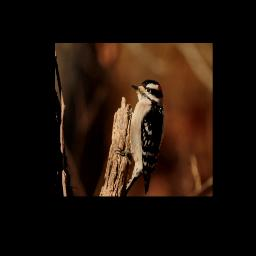Woodpecker: (114, 76, 165, 194)
